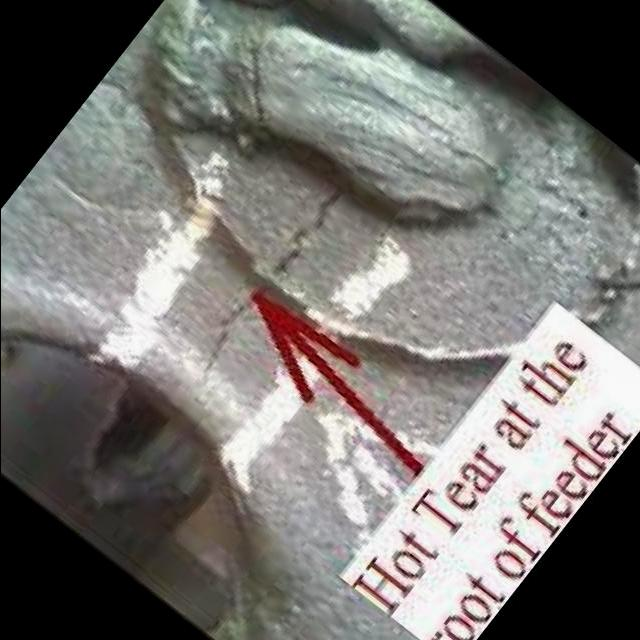defect: (200, 172, 356, 382)
